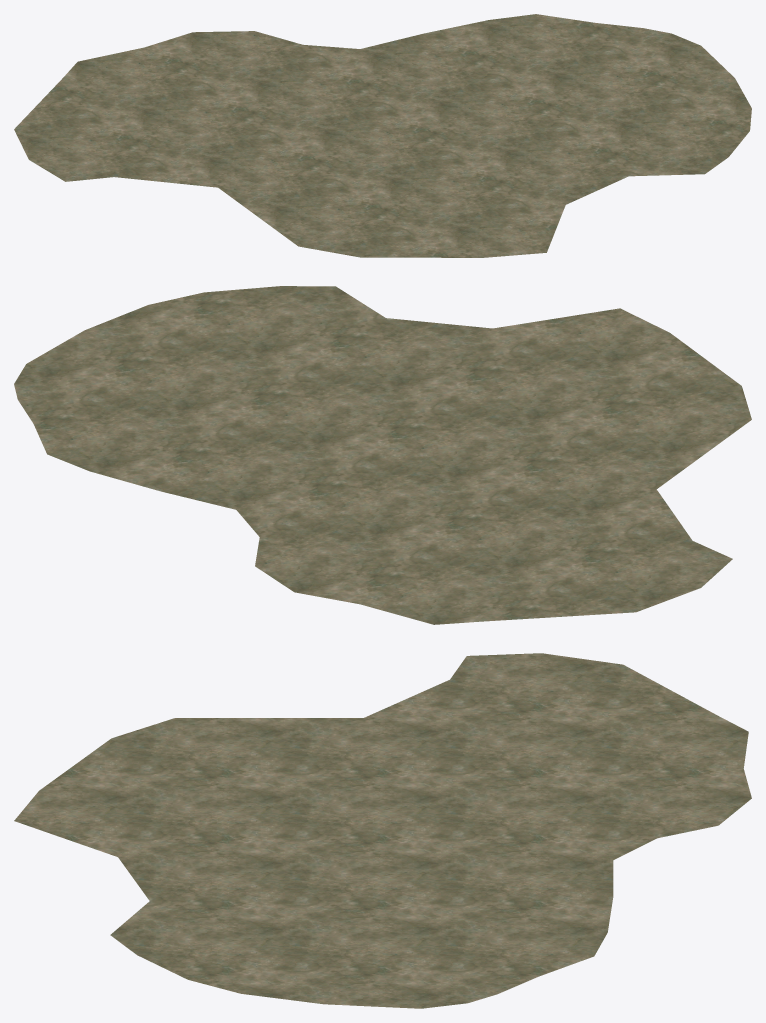
Rendered from EKH_JAIL_PS_JA_LINE21.fbx.
3 views of the same model, one above another, from view 1: azimuth 30°, elevation 25°; view 2: azimuth 150°, elevation 25°; view 3: azimuth 270°, elevation 25° (orthographic). The views are drawn at different scales.
Parts seen in each view (by area): view 1: EKH_JAIL_PS_JA_LINE21; view 2: EKH_JAIL_PS_JA_LINE21; view 3: EKH_JAIL_PS_JA_LINE21.
Part boxes in pixels (x1,y1,x2,y2): EKH_JAIL_PS_JA_LINE21: (14, 14, 751, 257); EKH_JAIL_PS_JA_LINE21: (14, 286, 751, 624); EKH_JAIL_PS_JA_LINE21: (14, 653, 751, 1008).
Size of the model in its own units: 107984 by 0.0215 by 94704.
1 material, 1 textured.
